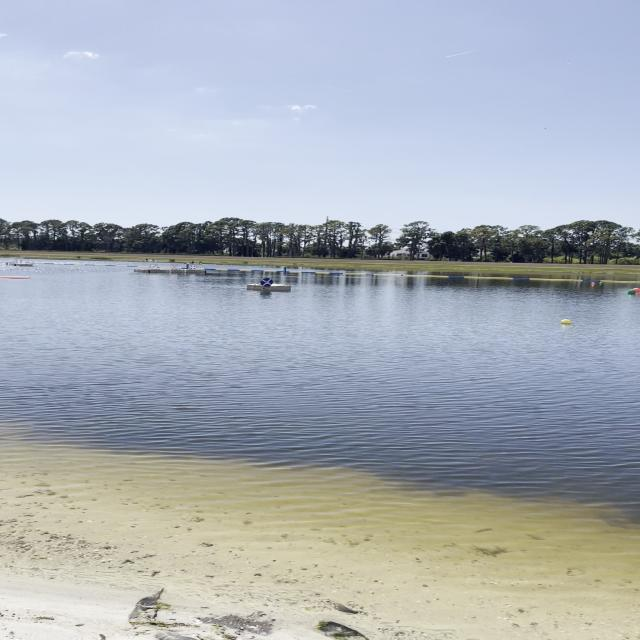buoy: (554, 315, 574, 329), (626, 290, 638, 294), (633, 288, 640, 292)
